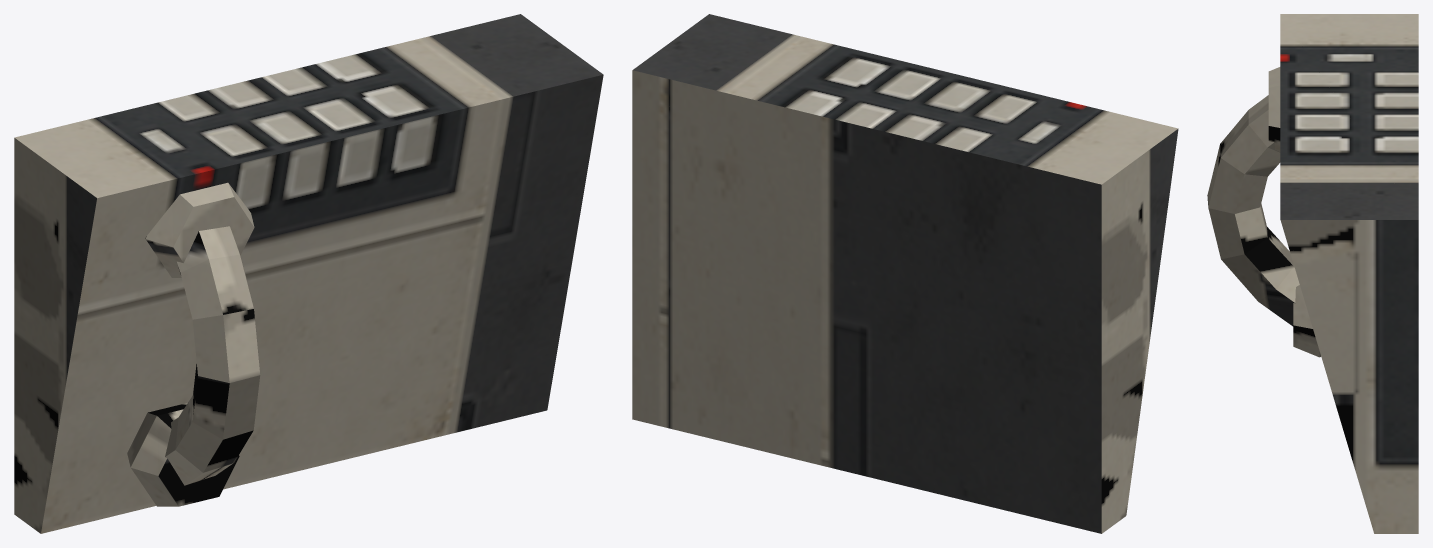
Rendered from pz_phone_modern_white.obj.
3 renders of one model, left to right at view 1: azimuth 30°, elevation 25°; view 2: azimuth 150°, elevation 25°; view 3: azimuth 270°, elevation 25°, orthographic. The views are drawn at different scales.
Parts seen in each view (by area): view 1: pz_phone_modern_white_|_simple_sloped_base, pz_phone_modern_white_|_EDITABLE_low-poly_curved_handset, pz_phone_modern_white_|_low-poly_receiver_end_1, pz_phone_modern_white_|_low-poly_receiver_end_0; view 2: pz_phone_modern_white_|_simple_sloped_base; view 3: pz_phone_modern_white_|_simple_sloped_base, pz_phone_modern_white_|_EDITABLE_low-poly_curved_handset, pz_phone_modern_white_|_low-poly_receiver_end_0, pz_phone_modern_white_|_low-poly_receiver_end_1.
Boxes of the visible parts, x1,y1,x2,y2 form: pz_phone_modern_white_|_simple_sloped_base: (14, 14, 603, 533); pz_phone_modern_white_|_EDITABLE_low-poly_curved_handset: (165, 226, 260, 485); pz_phone_modern_white_|_low-poly_receiver_end_1: (145, 182, 254, 277); pz_phone_modern_white_|_low-poly_receiver_end_0: (127, 403, 239, 506); pz_phone_modern_white_|_simple_sloped_base: (632, 14, 1178, 533); pz_phone_modern_white_|_simple_sloped_base: (1280, 14, 1418, 533); pz_phone_modern_white_|_EDITABLE_low-poly_curved_handset: (1207, 95, 1299, 326); pz_phone_modern_white_|_low-poly_receiver_end_0: (1293, 285, 1320, 357); pz_phone_modern_white_|_low-poly_receiver_end_1: (1268, 67, 1280, 151).
Bounding box in the file's own units: 0.374 × 0.266 × 0.1621.
